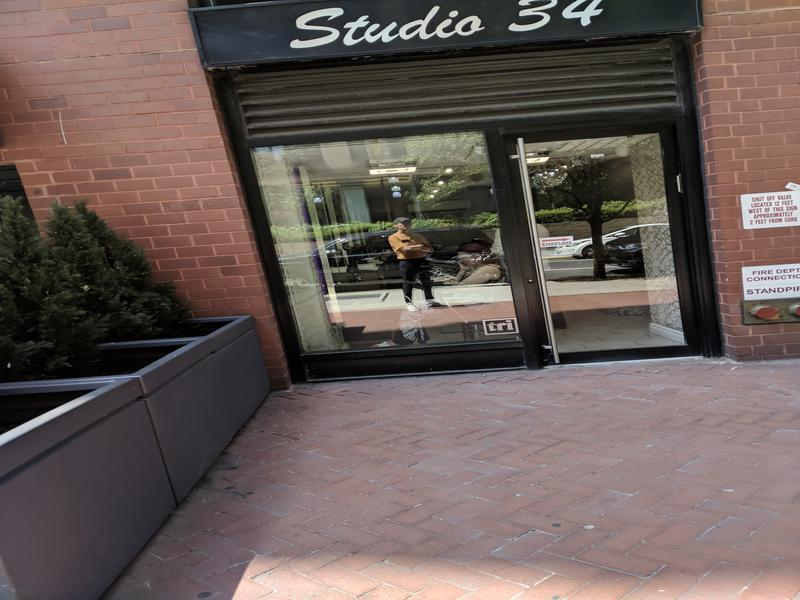door: (505, 121, 717, 365)
